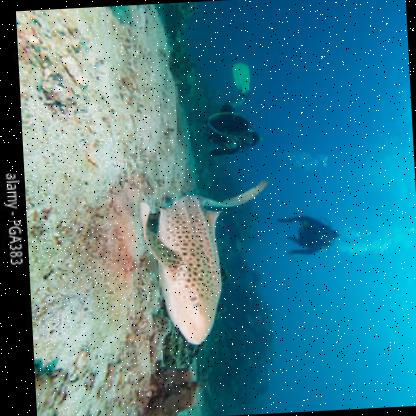zebra_shark: (126, 160, 290, 358)
